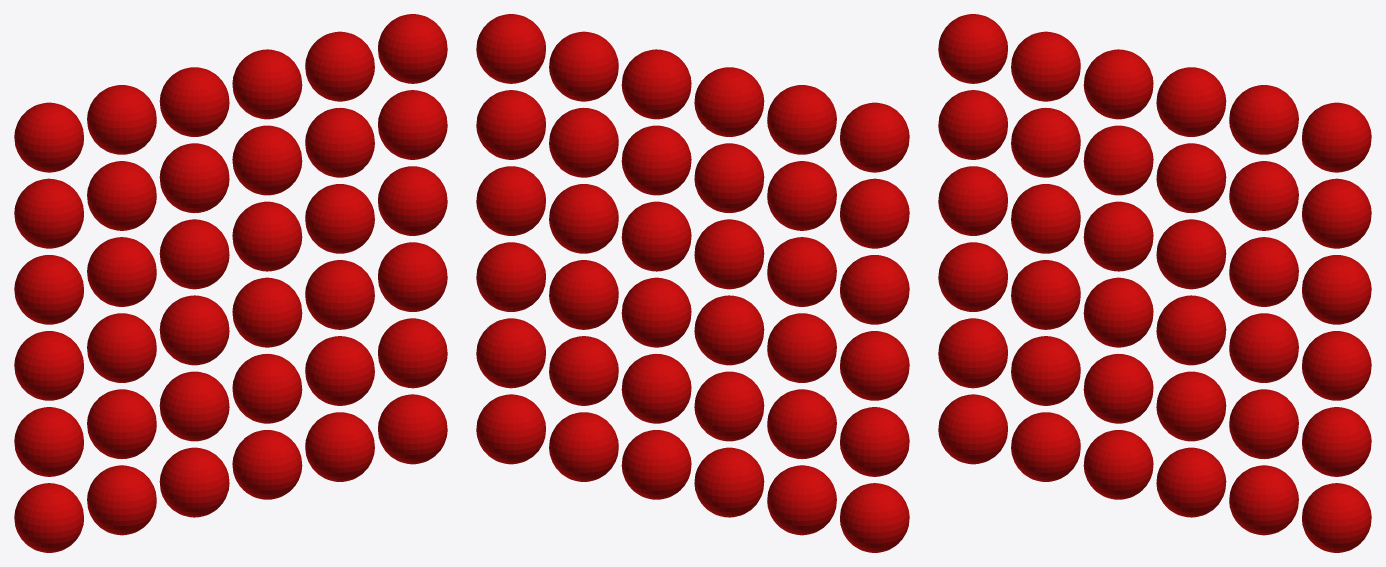
Rendered from sphere-matrix2.obj.
3 renders of one model, left to right at view 1: azimuth 30°, elevation 25°; view 2: azimuth 150°, elevation 25°; view 3: azimuth 330°, elevation 25°, orthographic.
Parts seen in each view (by area): view 1: Sphere; view 2: Sphere; view 3: Sphere.
Part boxes in pixels (x1=…): Sphere: x1=14, y1=14, x2=447, y2=552; Sphere: x1=476, y1=14, x2=909, y2=552; Sphere: x1=938, y1=14, x2=1371, y2=552.
Size of the model in its own units: 14 by 14 by 2.
